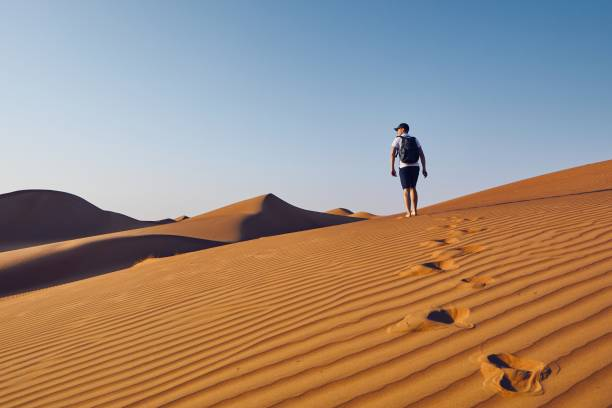human_footprint: (479, 353, 552, 396), (398, 244, 485, 276), (387, 306, 473, 332), (398, 259, 458, 276), (431, 244, 485, 259), (458, 276, 493, 288), (419, 237, 459, 247), (448, 226, 485, 236), (419, 239, 446, 247)
